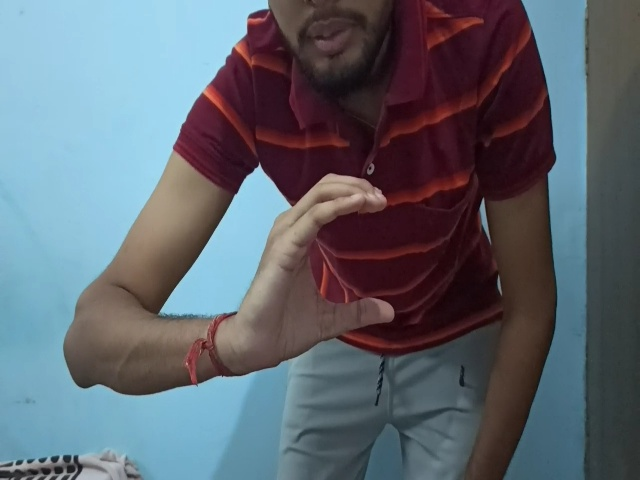C: (236, 173, 393, 373)
